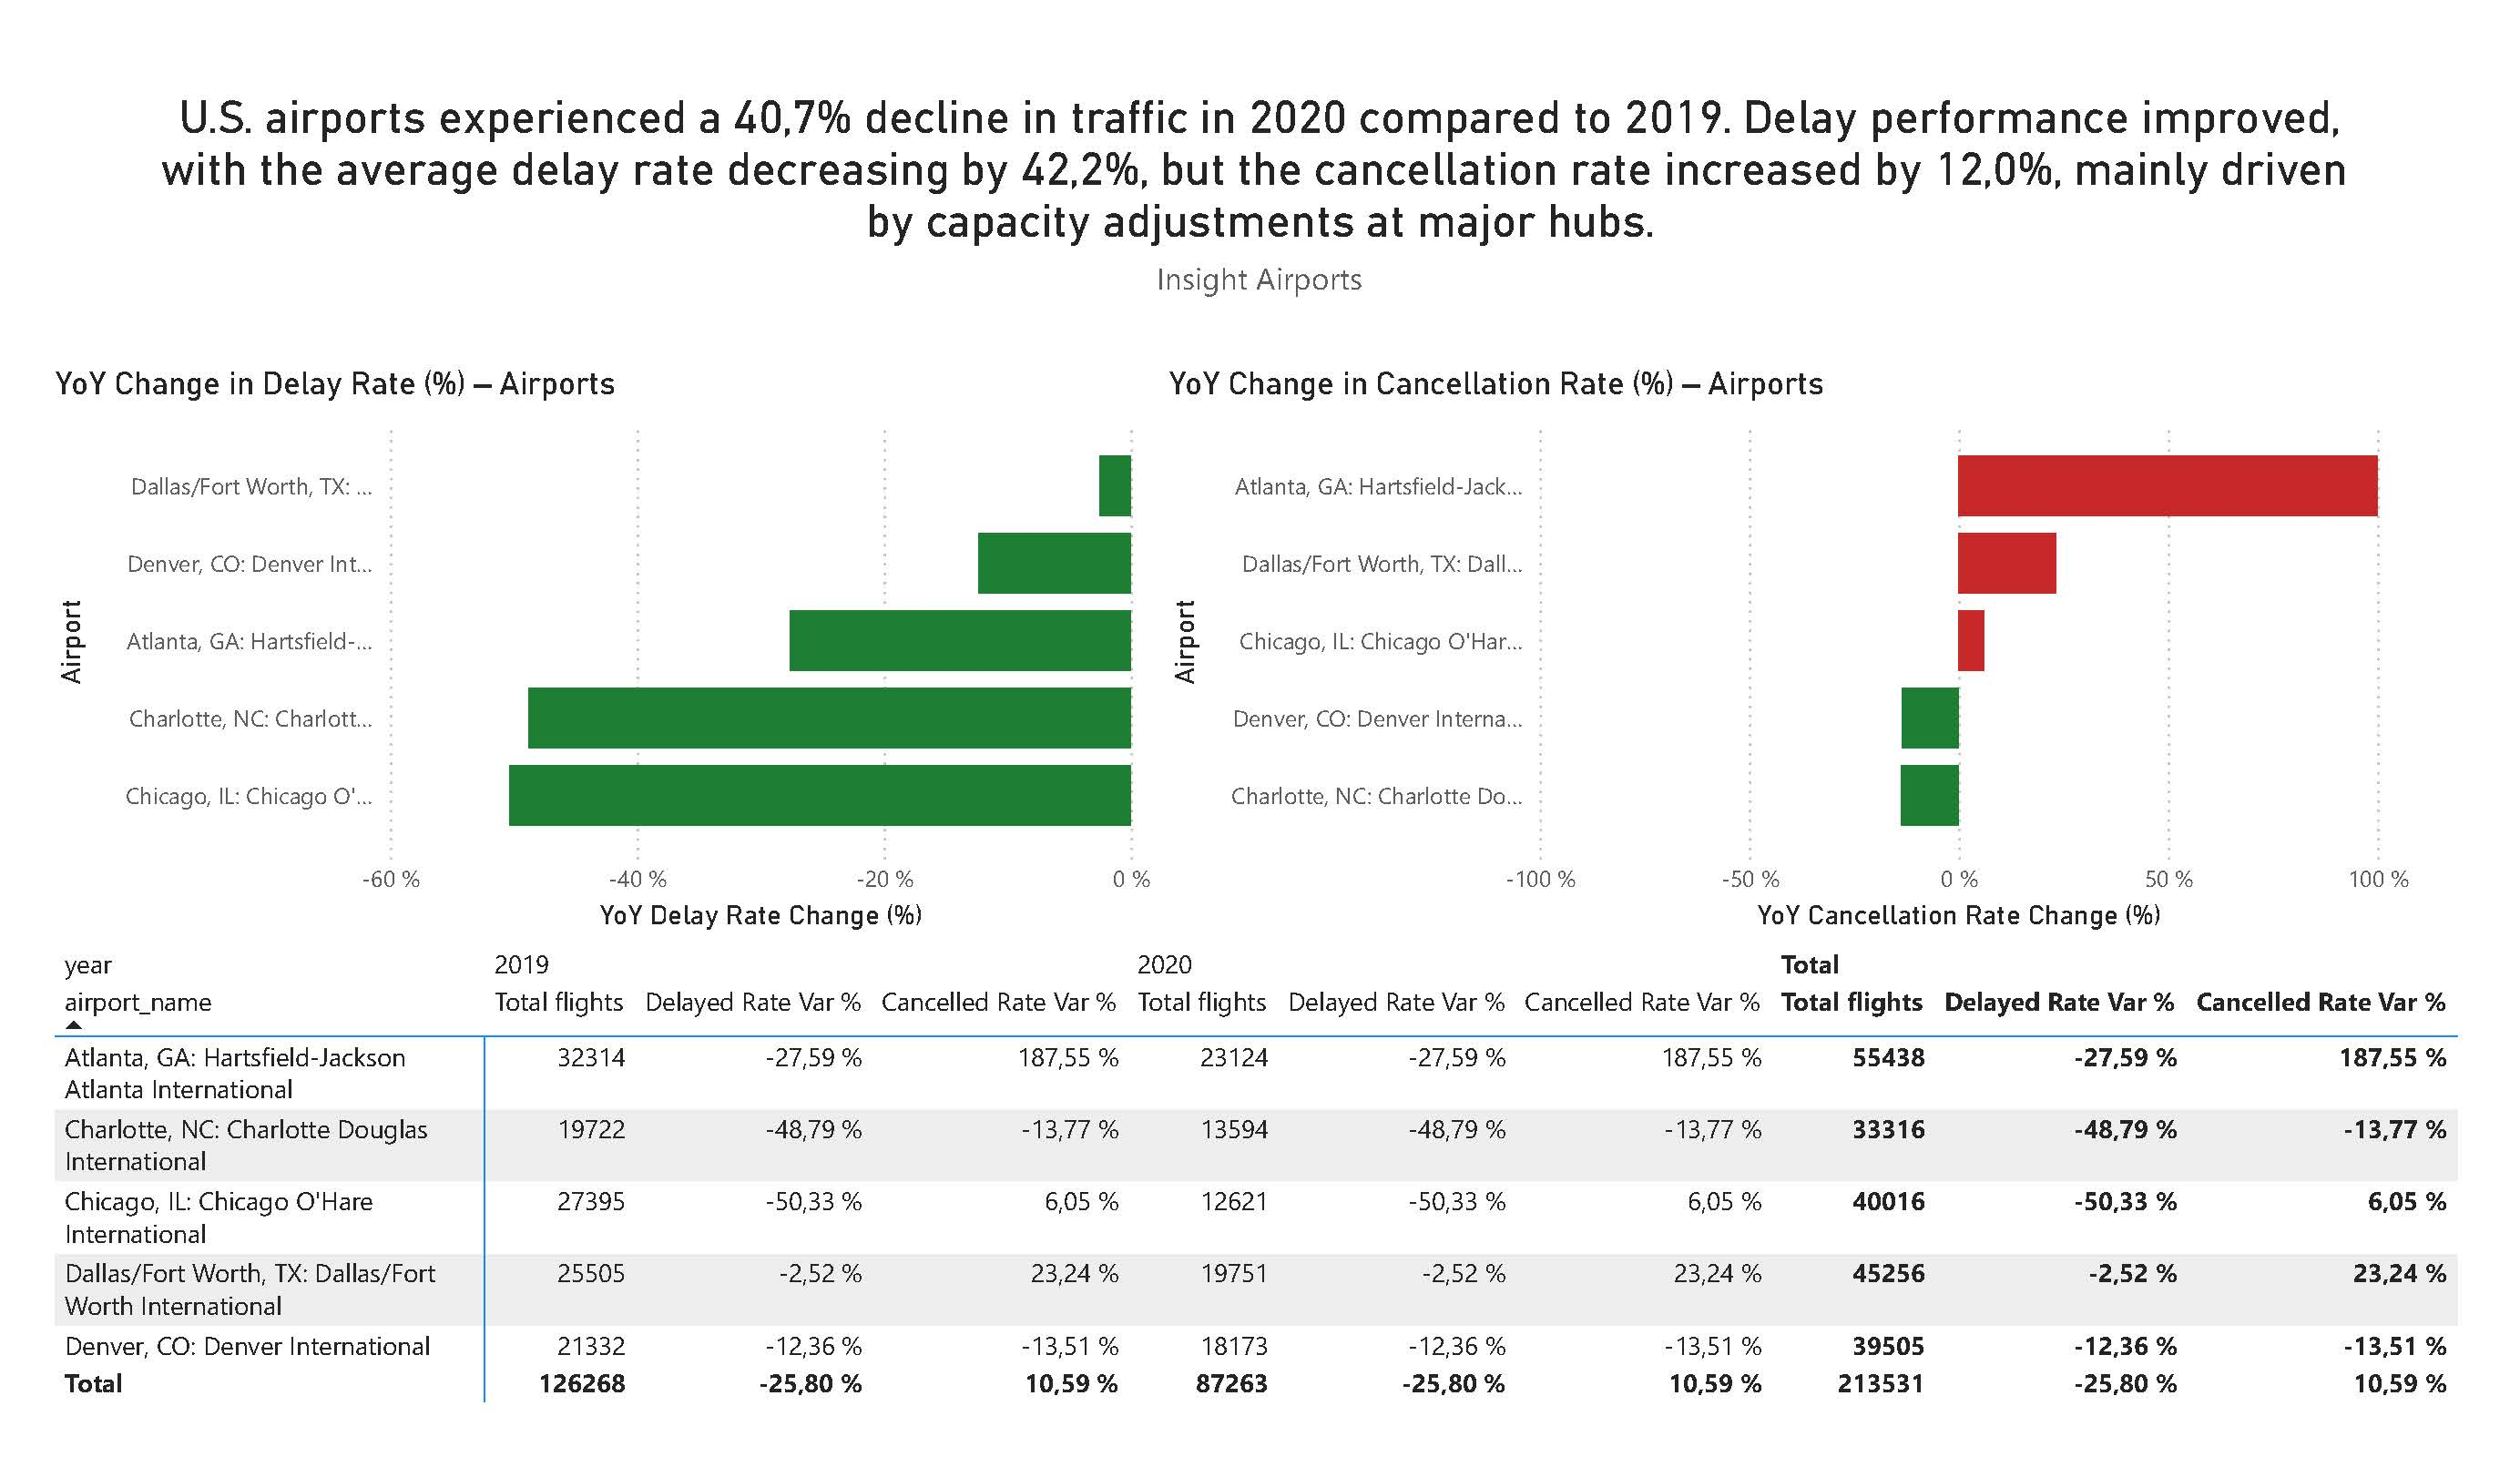

The dashboard page shown, as its layout file describes it:
{"tool":"powerbi","page":{"name":"Airport Performance","canvas":[1280,720],"ordinal":3},"visuals":[{"type":"barChart","title":"YoY Change in Cancellation Rate (%) – Airports","fields":{"Category":["dim_airport.airport_name"],"Y":["_Mesures.Cancelled Rate Var %"]},"box":[586.7,168,664,302.7],"z":0},{"type":"barChart","title":"YoY Change in Delay Rate (%) – Airports","fields":{"Y":["_Mesures.Delayed Rate Var %"],"Category":["dim_airport.airport_name"]},"box":[0,168,586.7,302.7],"z":1000},{"type":"pivotTable","fields":{"Rows":["dim_airport.airport_name"],"Columns":["dim_date.year"],"Values":["_Mesures.Total flights","_Mesures.Delayed Rate Var %","_Mesures.Cancelled Rate Var %"]},"box":[0,469,1280,251],"z":2000},{"type":"card","fields":{"Values":["_Mesures.Insight Airports (EN)"]},"box":[0,0,1280,148],"z":3000}]}

Visuals, with their boxes on the page's 1280x720 design canvas (x1, y1, x2, y2). These are canvas units, not pixel positions in the 2520x1457 screenshot, which may show the page scaled, cropped or inside an application window:
"YoY Change in Cancellation Rate (%) – Airports" barChart: [587, 168, 1251, 471]
"YoY Change in Delay Rate (%) – Airports" barChart: [0, 168, 587, 471]
pivotTable - dim_airport.airport_name x dim_date.year: [0, 469, 1280, 720]
card - _Mesures.Insight Airports (EN): [0, 0, 1280, 148]
